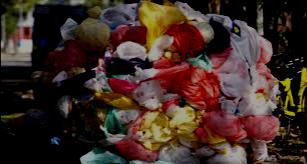Plastic: (133, 0, 185, 56), (170, 18, 208, 61), (201, 105, 240, 144), (237, 110, 280, 144), (74, 19, 112, 57), (24, 106, 61, 141)
